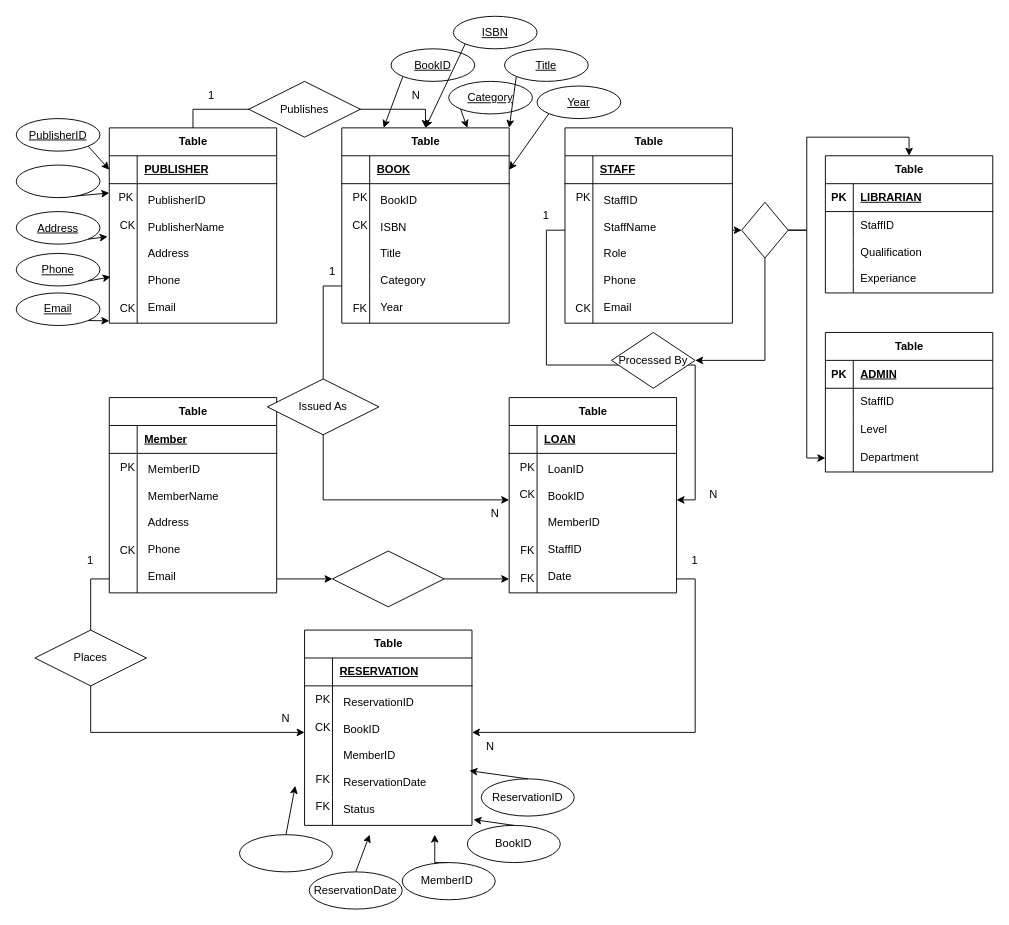
The diagram is 1009 pixels wide and 925 high, and some of its shapes have lost their labels. The centre of each missing label's shape, as x and y in pixels:
Borrows: the point at 388,578
is a: the point at 764,229
PublisherName: the point at 57,181
Status: the point at 285,853
